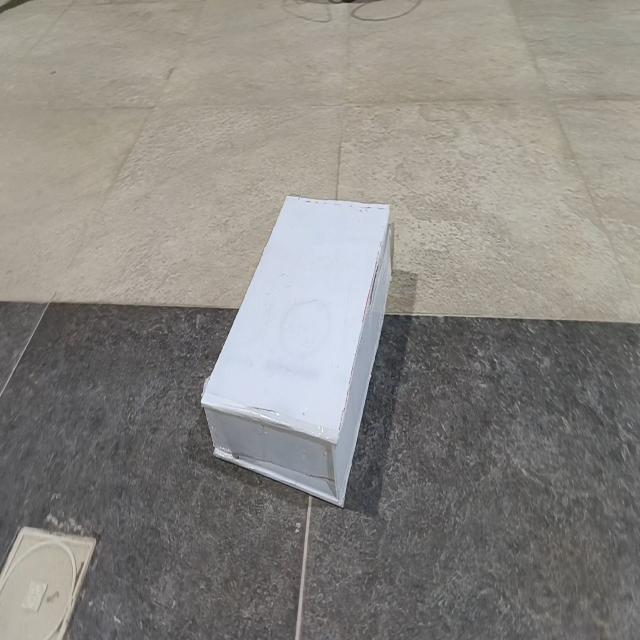Cuboid: (200, 192, 393, 509)
